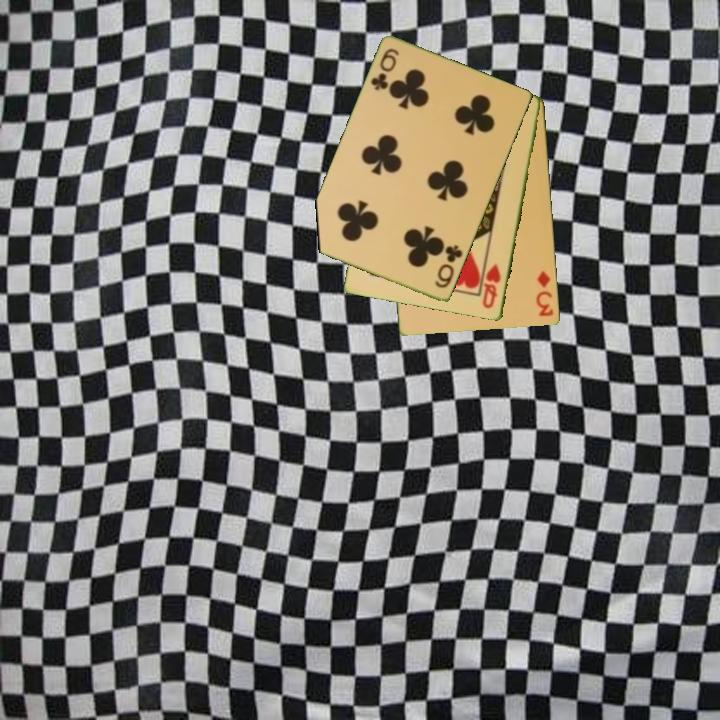3d: (533, 267, 556, 319)
6c: (431, 242, 466, 291), (367, 45, 402, 94)
Qh: (479, 260, 504, 312)
